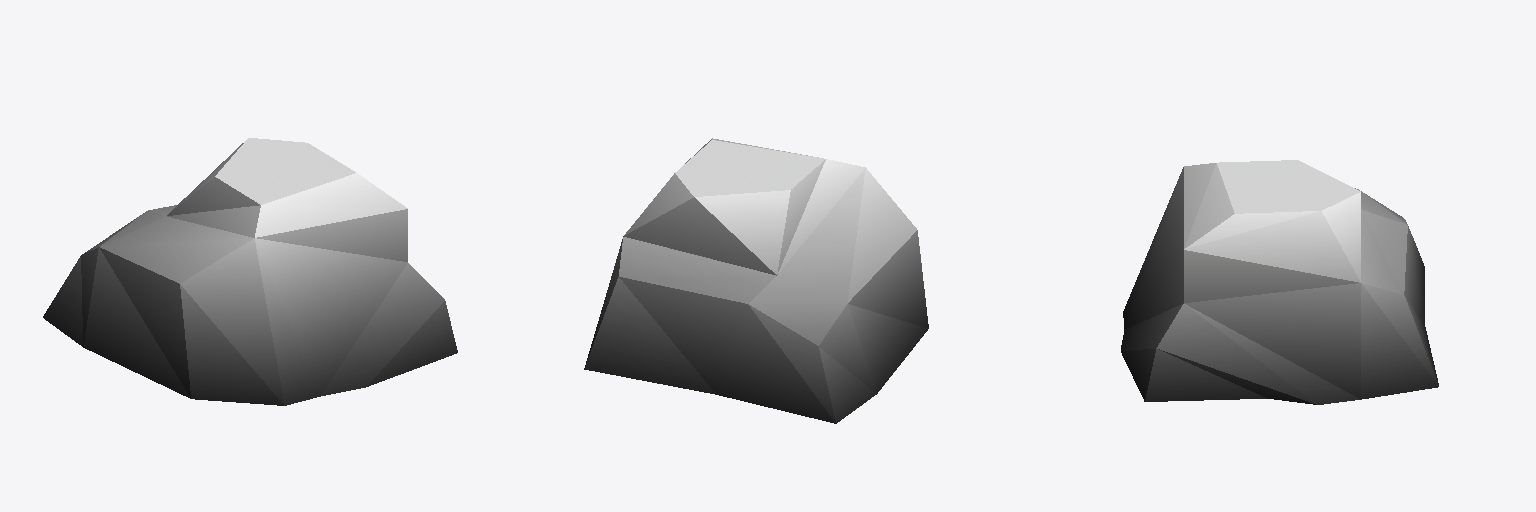
3 views of the same model, side by side, from view 1: azimuth 30°, elevation 25°; view 2: azimuth 150°, elevation 25°; view 3: azimuth 270°, elevation 25° (orthographic).
Parts seen in each view (by area): view 1: Rock1_Cube.001; view 2: Rock1_Cube.001; view 3: Rock1_Cube.001.
Boxes of the visible parts, box(x1,y1,x2,y2) form: Rock1_Cube.001: box(43, 138, 457, 405); Rock1_Cube.001: box(584, 138, 928, 423); Rock1_Cube.001: box(1121, 160, 1438, 404).
Bounding box in the file's own units: 3.66 × 2 × 3.6.
1 materials, 1 textured.